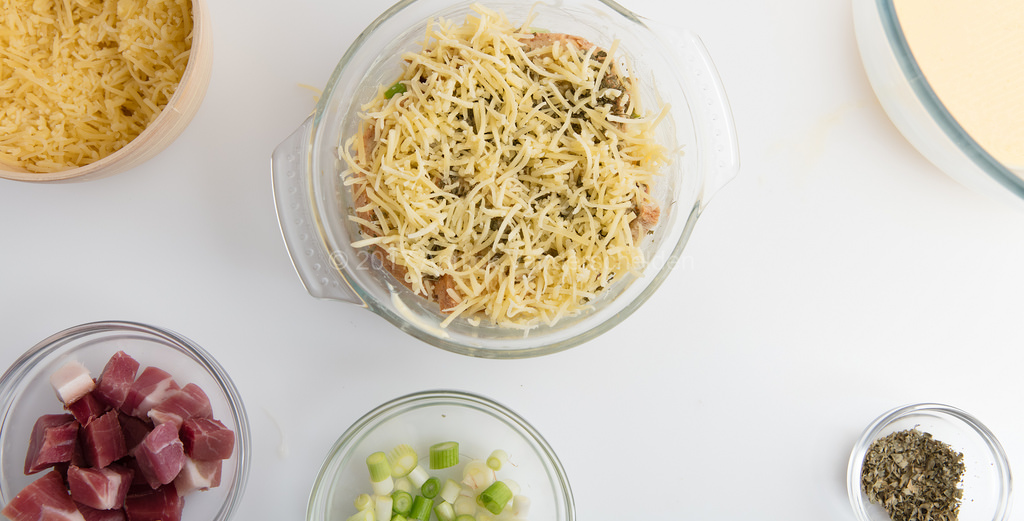plain spaghetti: (341, 24, 666, 328)
